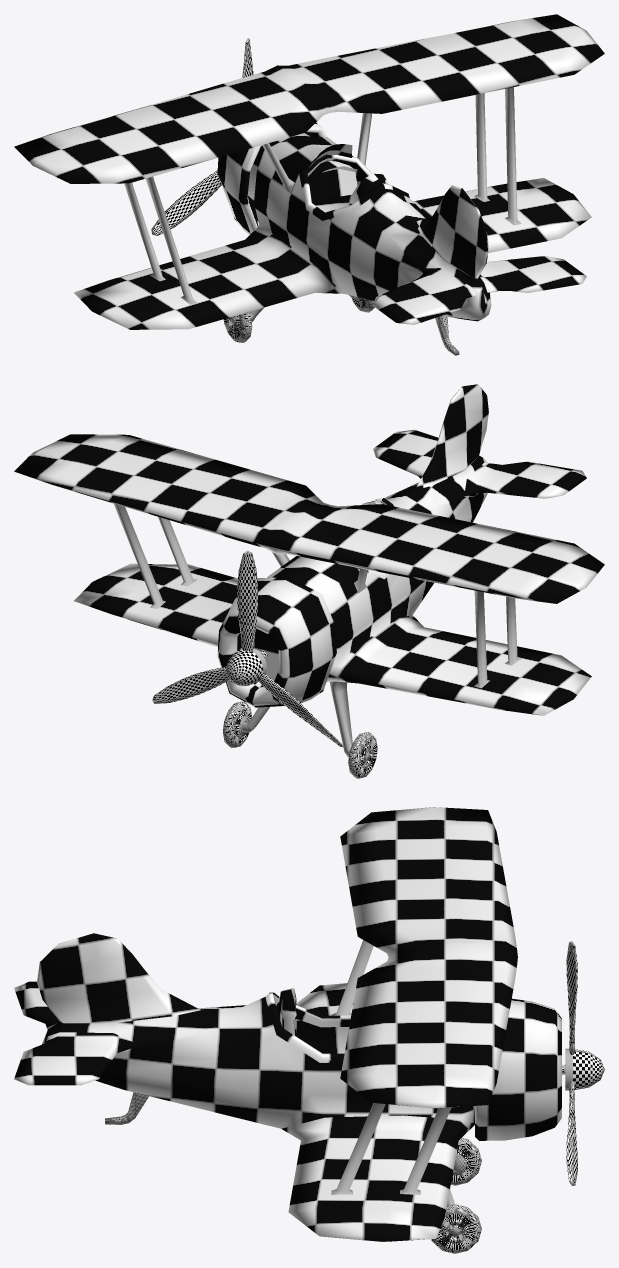
Rendered from biplane_with texture.FBX.
The picture shows the model from 3 angles, top to bottom: view 1: azimuth 30°, elevation 25°; view 2: azimuth 150°, elevation 25°; view 3: azimuth 270°, elevation 25°; orthographic projection. The views are drawn at different scales.
Visible parts, largest first — view 1: body, upper wing, supports001, nose, cabin, propellers nose, front wheels; view 2: body, upper wing, nose, propellers nose, supports001, front wheels; view 3: body, upper wing, nose, supports001, propellers nose, front wheels, cabin.
Boxes of the visible parts, x1,y1,x2,y2 form: body: (74,133,591,329); upper wing: (14,14,604,183); supports001: (124,87,521,304); nose: (217,123,327,234); cabin: (308,161,387,203); propellers nose: (151,38,253,235); front wheels: (223,295,374,342); body: (74,384,591,715); upper wing: (14,434,604,603); nose: (217,577,336,707); propellers nose: (152,550,342,746); supports001: (113,503,520,688); front wheels: (223,681,377,778); body: (14,933,474,1241); upper wing: (340,807,517,1108); nose: (475,998,561,1140); supports001: (331,940,451,1194); propellers nose: (562,941,604,1185); front wheels: (431,1138,481,1253); cabin: (279,988,297,1036).
Bounding box in the file's own units: 297 × 131 × 246.
1 material, 1 textured.
